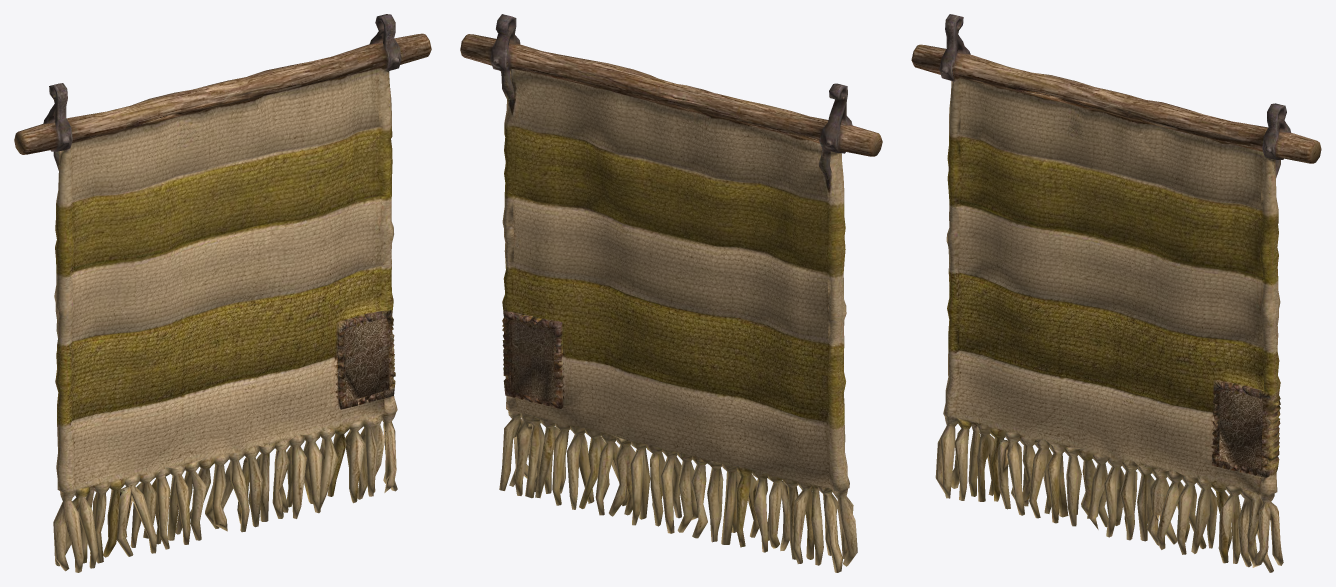
File: th_hanging.glb
The picture shows the model from 3 angles, left to right: view 1: azimuth 30°, elevation 25°; view 2: azimuth 150°, elevation 25°; view 3: azimuth 330°, elevation 25°; orthographic projection. The views are drawn at different scales.
Visible parts, largest first — view 1: th_hanging; view 2: th_hanging; view 3: th_hanging.
Boxes of the visible parts, box(x1,y1,x2,y2) form: th_hanging: box(14, 14, 431, 572); th_hanging: box(460, 14, 882, 572); th_hanging: box(911, 14, 1321, 572).
Size of the model in its own units: 1.68 by 1.9 by 0.1971.
1 material, 1 textured.
